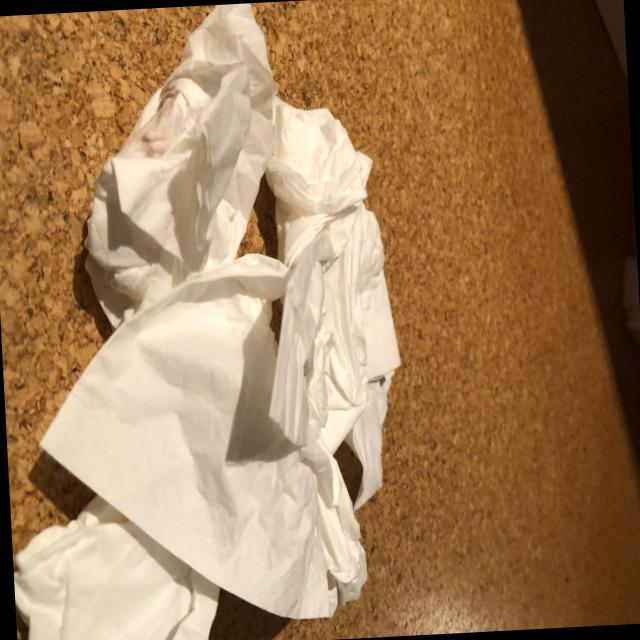organic waste: (27, 248, 371, 636), (66, 2, 290, 337), (255, 90, 407, 521), (9, 494, 224, 640)
